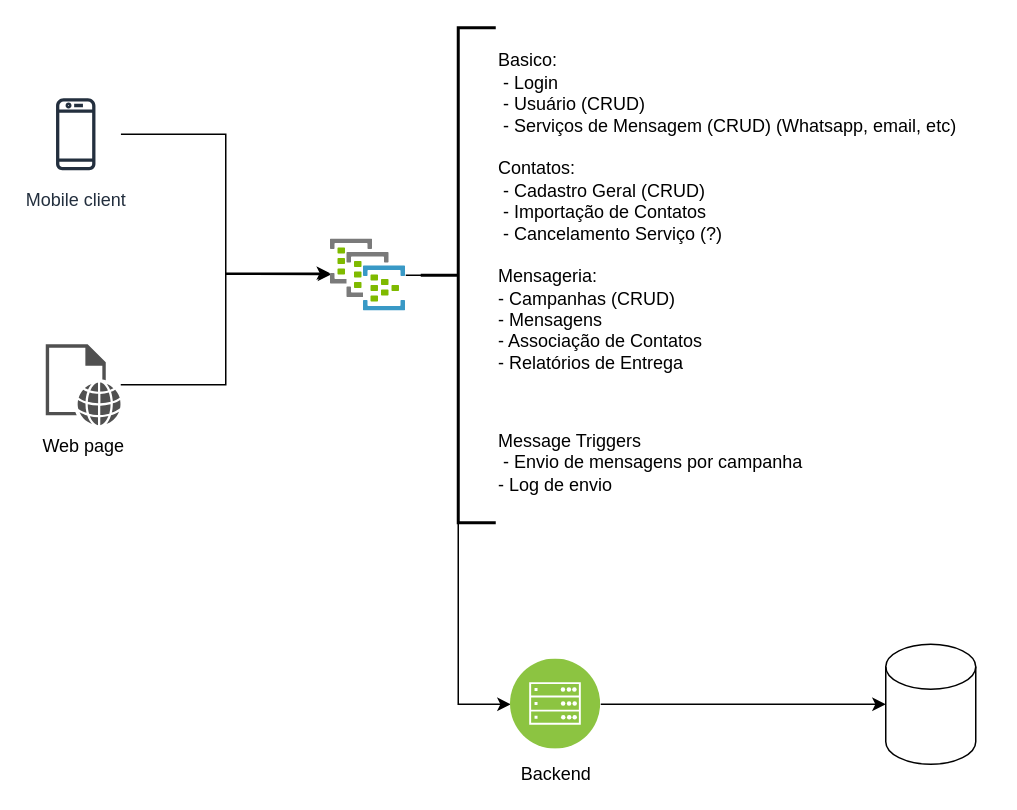
The diagram is 1017 pixels wide and 810 high, and some of its shapes have lost their labels. The centre of each missing label's shape, as x and y in pixels:
"Database" goes at (x=930, y=703).
"Service Hub" goes at (x=367, y=274).
